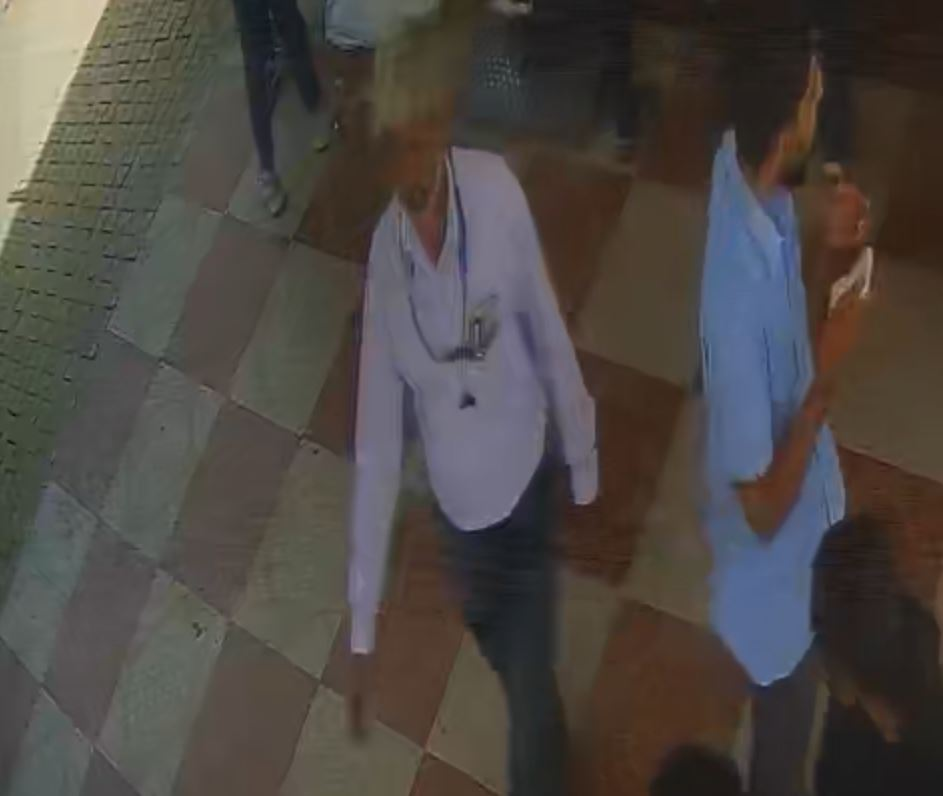not intruder: (332, 51, 614, 784)
